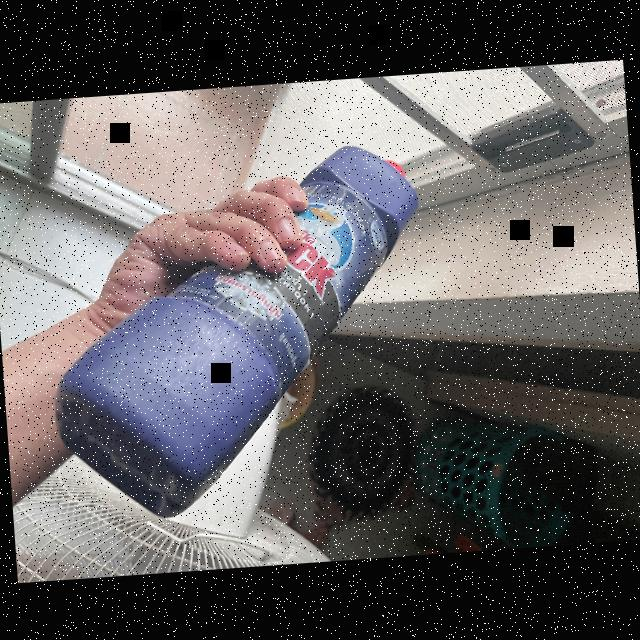toilet_cleaner: (36, 136, 441, 527)
